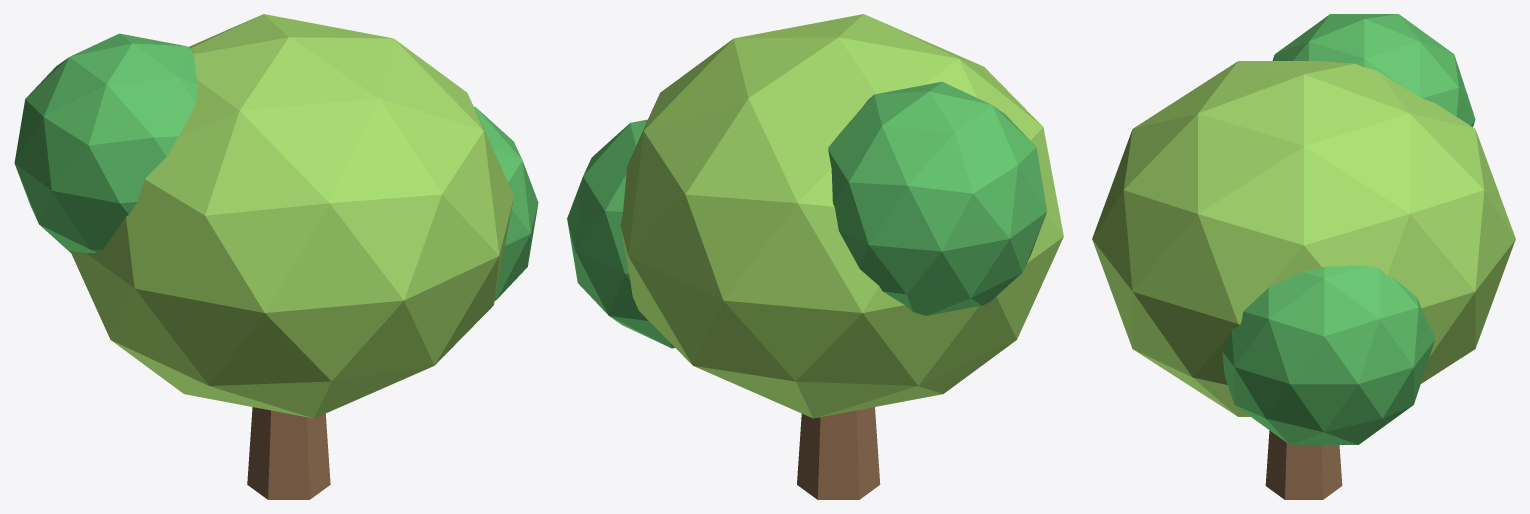
File: Tree_07_Bushy.fbx
3 renders of one model, left to right at view 1: azimuth 30°, elevation 25°; view 2: azimuth 150°, elevation 25°; view 3: azimuth 270°, elevation 25°, orthographic. The views are drawn at different scales.
Visible parts, largest first — view 1: Tree_07_Bushy; view 2: Tree_07_Bushy; view 3: Tree_07_Bushy.
Boxes of the visible parts, x1,y1,x2,y2 form: Tree_07_Bushy: [14, 14, 538, 499]; Tree_07_Bushy: [567, 14, 1063, 499]; Tree_07_Bushy: [1092, 14, 1515, 499].
Bounding box in the file's own units: 4.89 × 4.5 × 4.2.
